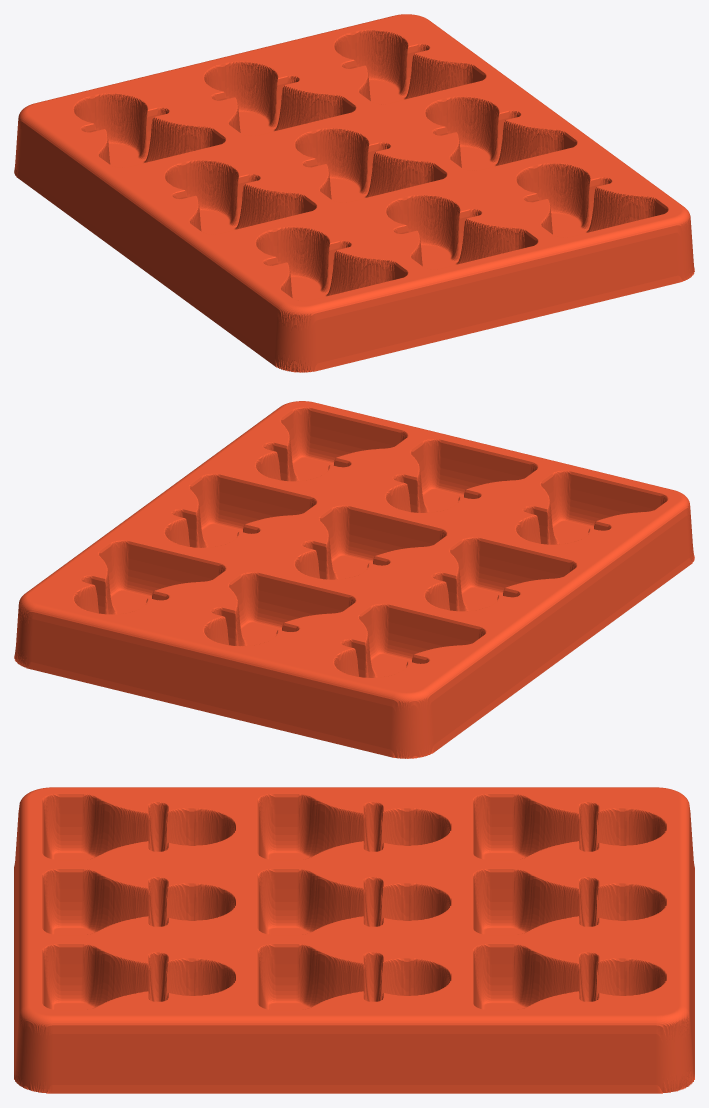
The model's file is mold.glb.
3 renders of one model, top to bottom at view 1: azimuth 30°, elevation 25°; view 2: azimuth 150°, elevation 25°; view 3: azimuth 270°, elevation 25°, orthographic. The views are drawn at different scales.
Parts seen in each view (by area): view 1: geometry_0; view 2: geometry_0; view 3: geometry_0.
Part boxes in pixels (x1,y1,x2,y2): geometry_0: (14, 14, 694, 372); geometry_0: (14, 401, 694, 758); geometry_0: (14, 787, 694, 1093).
Size of the model in its own units: 0.1331 by 0.0185 by 0.1595.
